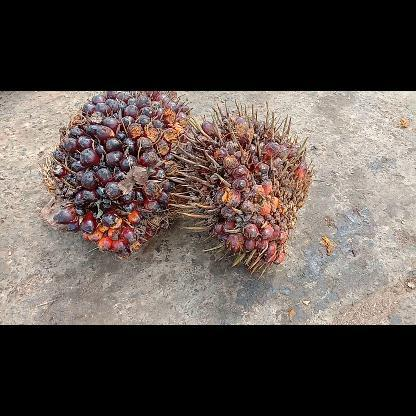Kurang masak: (39, 91, 193, 259)
TBS masak: (169, 98, 313, 278)
